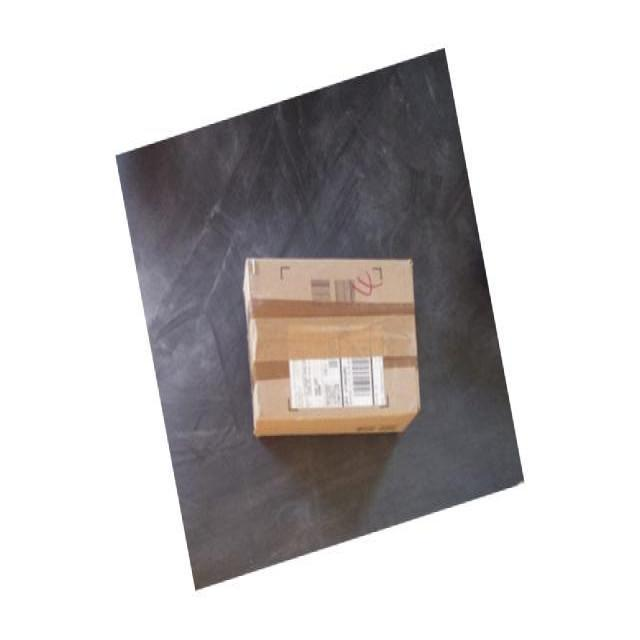Cardboard: (244, 262, 423, 436)
